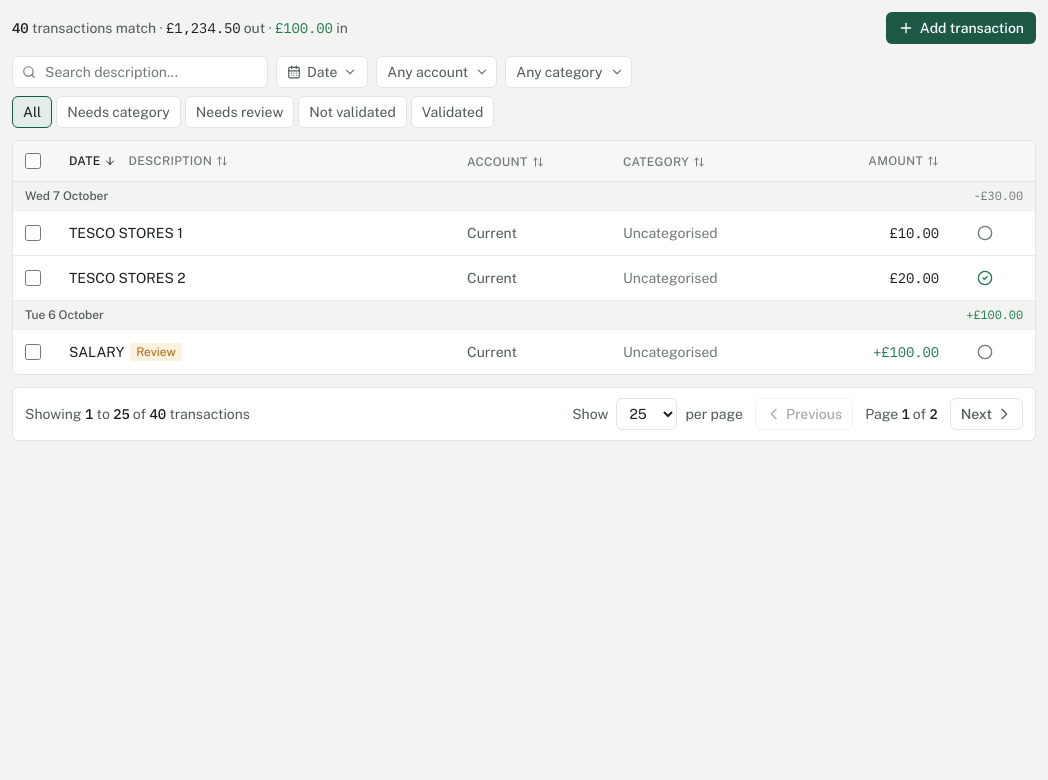
Transactions page › marks selected rows validated, with Undo restoring previous values
The width and height of the screenshot is (1048, 780).
Check: the text "SALARY" is shown, box 69,342 -> 124,362
Click the checkbox named "Select TESCO STORES 1". click: [33, 233]
box: 25,225 -> 41,241
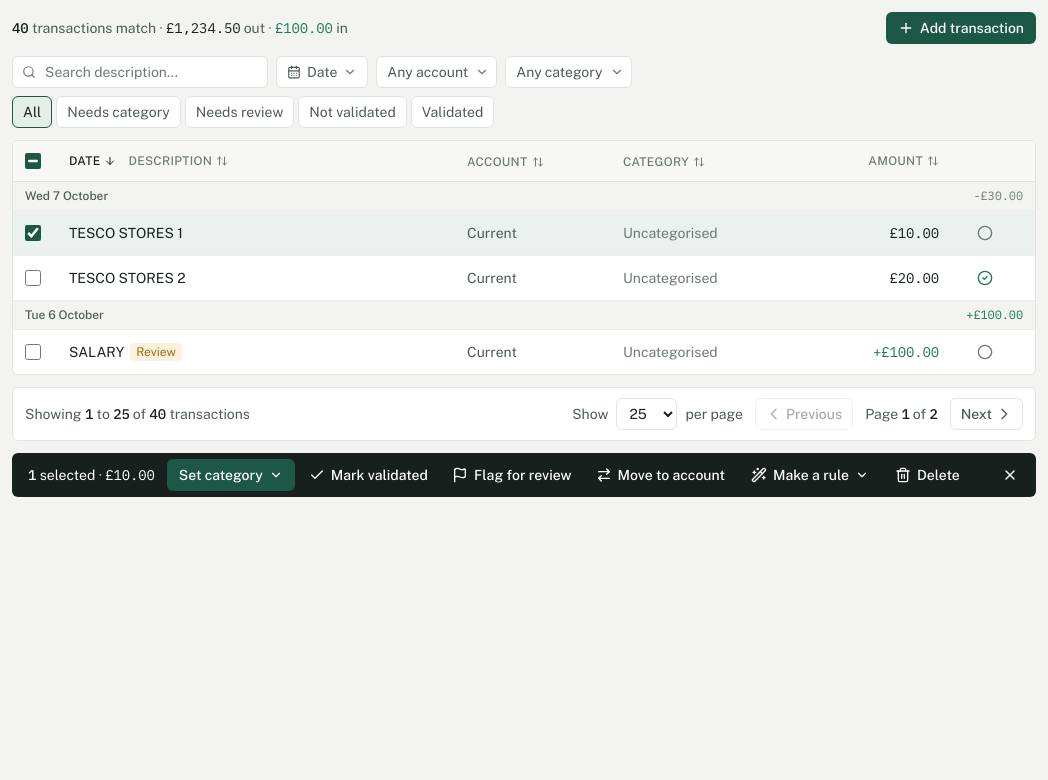
Click the checkbox named "Select TESCO STORES 2". click: [33, 278]
box: 25,270 -> 41,286
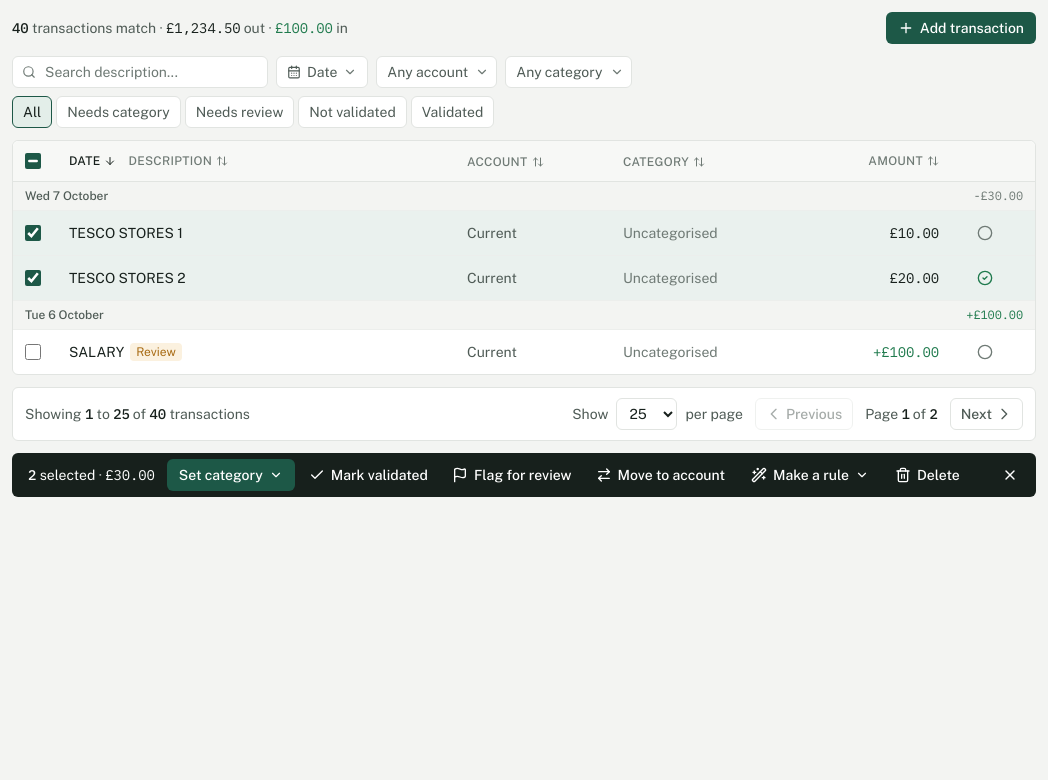
Check: the element named "Bulk actions" shows "2 selected", box 12,453 -> 1036,497
Check: the element named "Bulk actions" shows "£30.00", box 105,466 -> 155,484
Click the button "Mark validated". click: [368, 475]
box: 299,459 -> 438,491
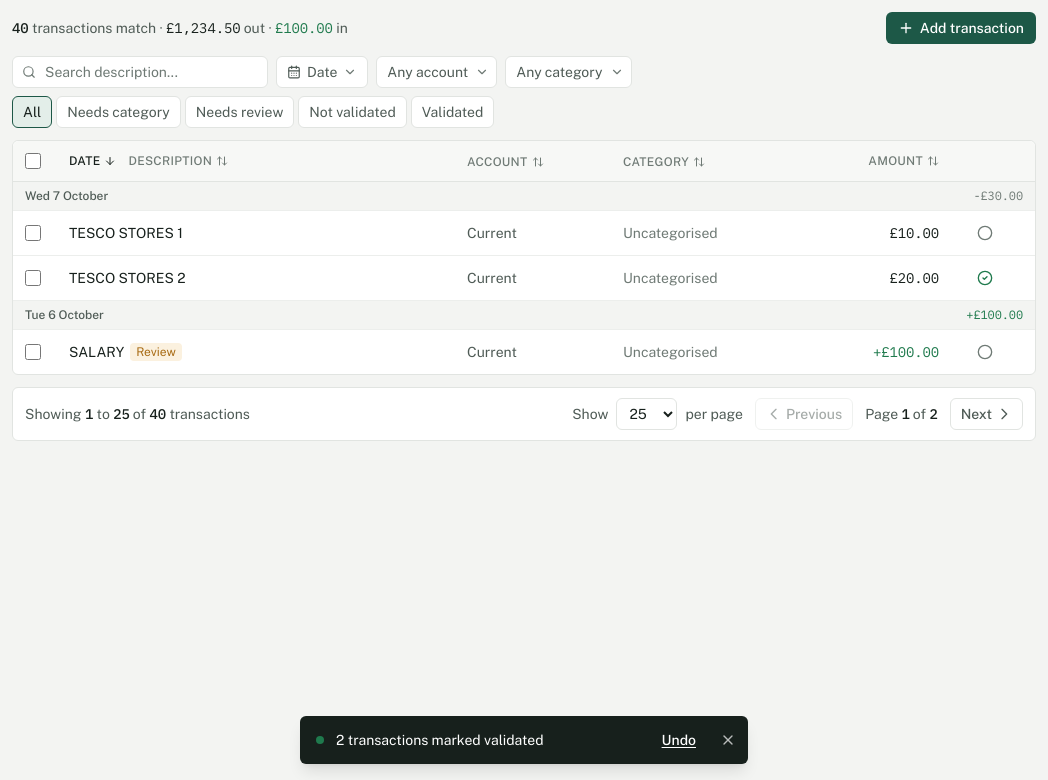
Check: the text "2 transactions marked validated" is shown, box 336,732 -> 544,748
Click the button "Undo". click: [679, 740]
box: 654,726 -> 704,754
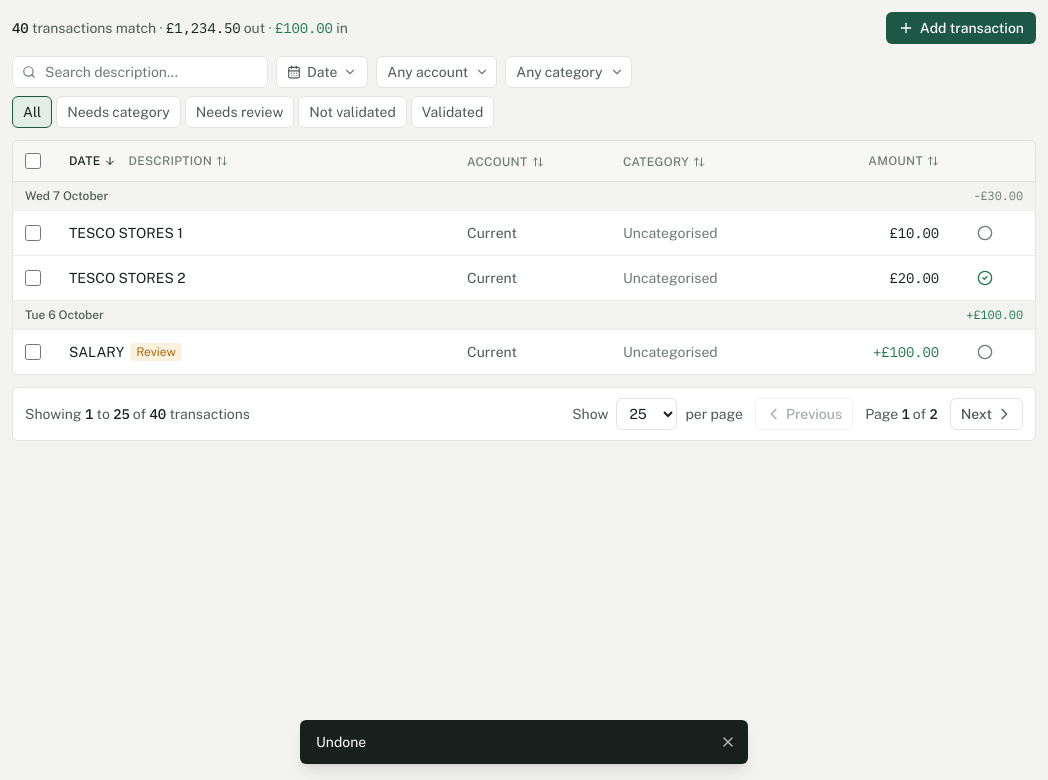
Check: the text "Undone" is shown, box 316,734 -> 366,750
